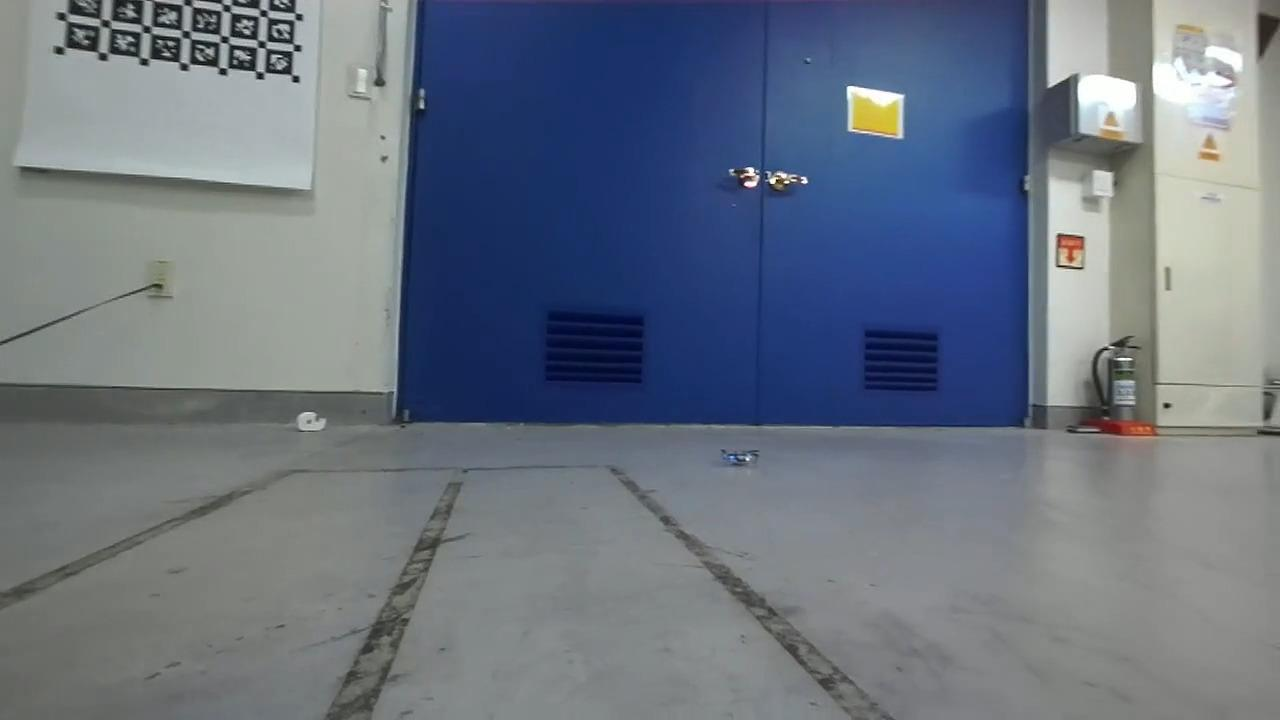crazyflie: (715, 443, 765, 473)
